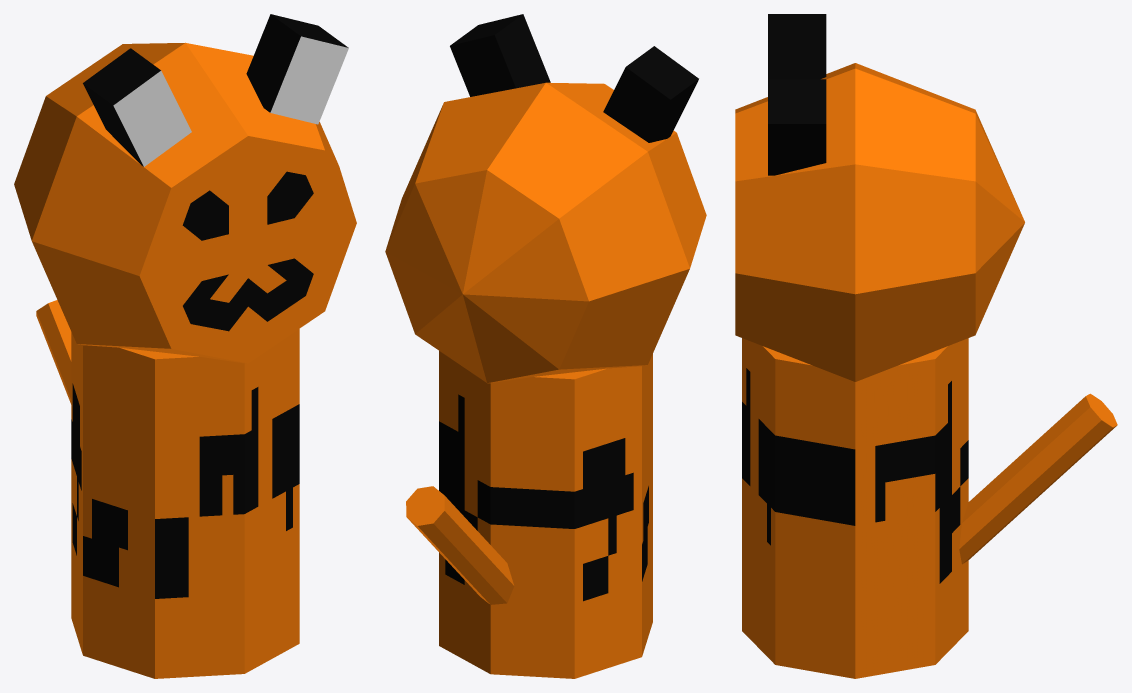
File: tiger.glb
3 views of the same model, side by side, from view 1: azimuth 30°, elevation 25°; view 2: azimuth 150°, elevation 25°; view 3: azimuth 270°, elevation 25° (orthographic). The views are drawn at different scales.
Parts seen in each view (by area): view 1: Cylinder; view 2: Cylinder; view 3: Cylinder.
Boxes of the visible parts, left/top/right/bottom form: Cylinder: left=14, top=14, right=356, bottom=678; Cylinder: left=385, top=14, right=706, bottom=678; Cylinder: left=735, top=14, right=1117, bottom=678.
Size of the model in its own units: 3 by 5.7 by 3.38.
